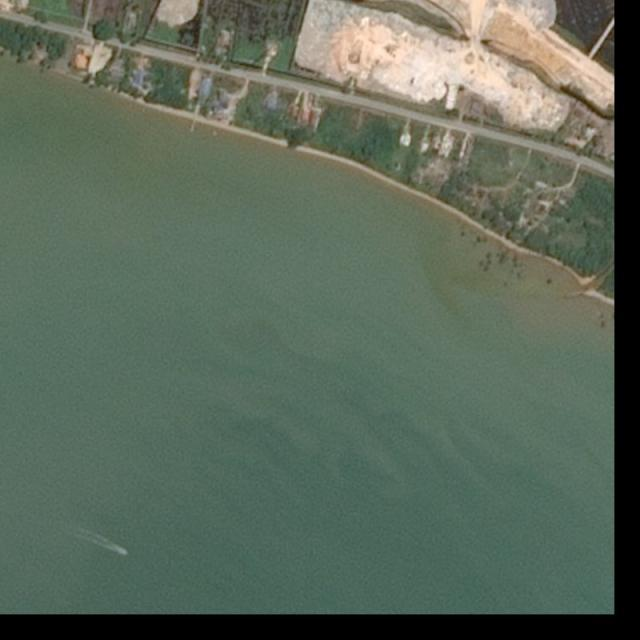ship: (121, 548, 129, 554)
